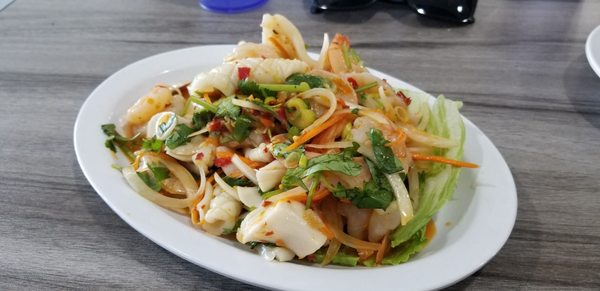sushi: (71, 18, 517, 286)
